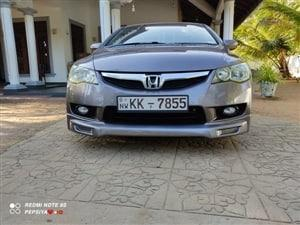license-plate: (116, 94, 186, 109)
